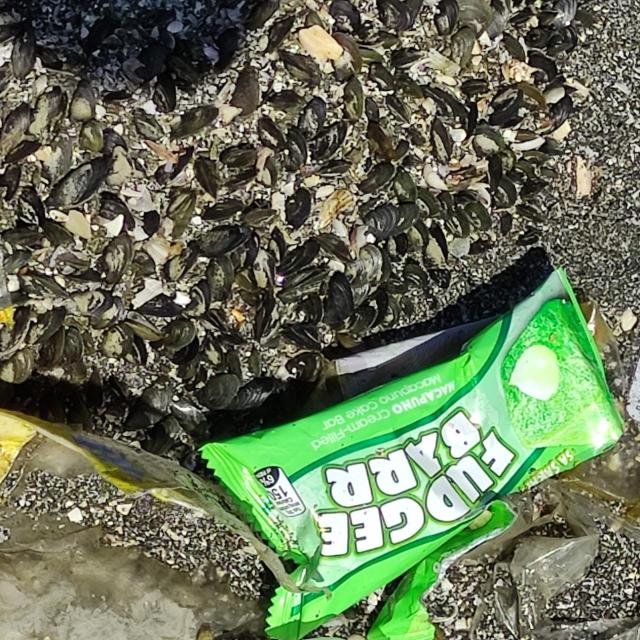plastic_waste: (203, 265, 627, 637)
